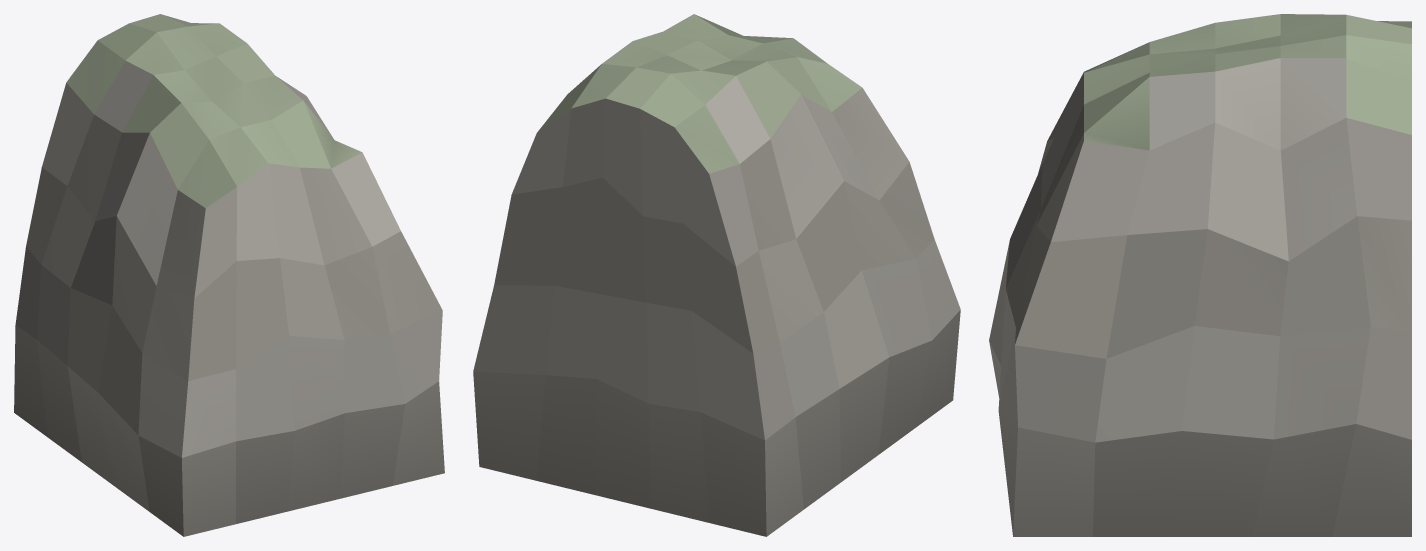
File: roca_punta_2.glb
3 views of the same model, side by side, from view 1: azimuth 30°, elevation 25°; view 2: azimuth 150°, elevation 25°; view 3: azimuth 270°, elevation 25° (orthographic). The views are drawn at different scales.
Parts seen in each view (by area): view 1: propforge-cuartos-roca_punta; view 2: propforge-cuartos-roca_punta; view 3: propforge-cuartos-roca_punta.
Part boxes in pixels (x1,y1,x2,y2): propforge-cuartos-roca_punta: [14, 14, 444, 536]; propforge-cuartos-roca_punta: [473, 14, 960, 536]; propforge-cuartos-roca_punta: [989, 14, 1411, 536].
Bounding box in the file's own units: 0.8772 × 1.09 × 0.9543.
